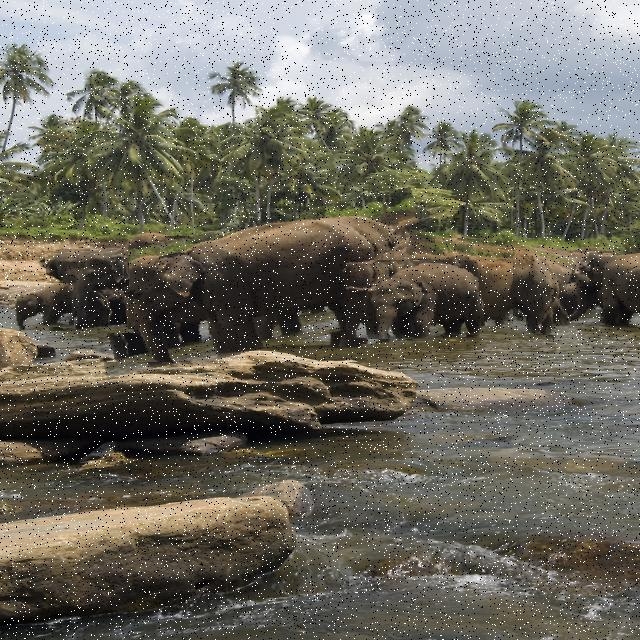elephant: (87, 204, 432, 362), (435, 238, 569, 336), (346, 260, 481, 341), (394, 235, 513, 326), (45, 248, 124, 331), (538, 248, 603, 318), (585, 251, 640, 324), (9, 283, 76, 328), (64, 287, 134, 329), (552, 272, 592, 321)
